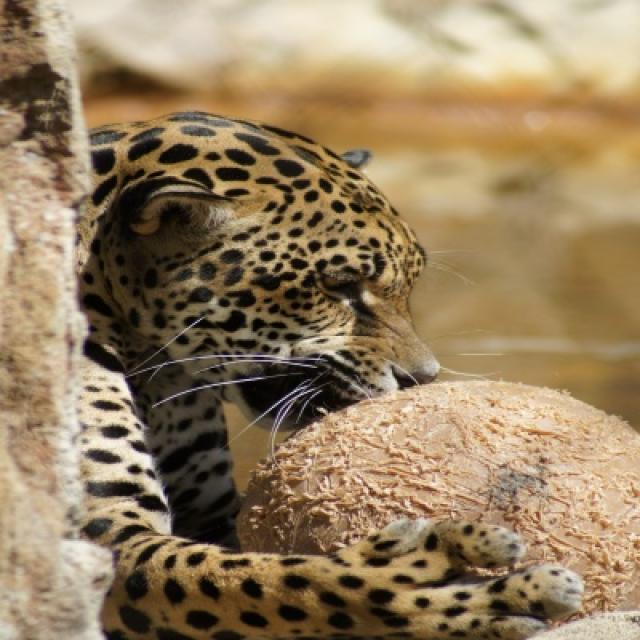Jaguar: (77, 110, 582, 638)
